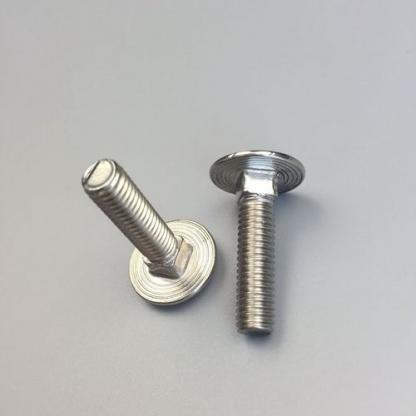FOD: (79, 154, 214, 309), (208, 148, 306, 342)
